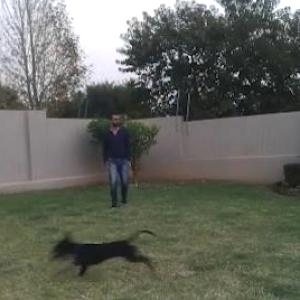follow: (103, 106, 133, 210)
